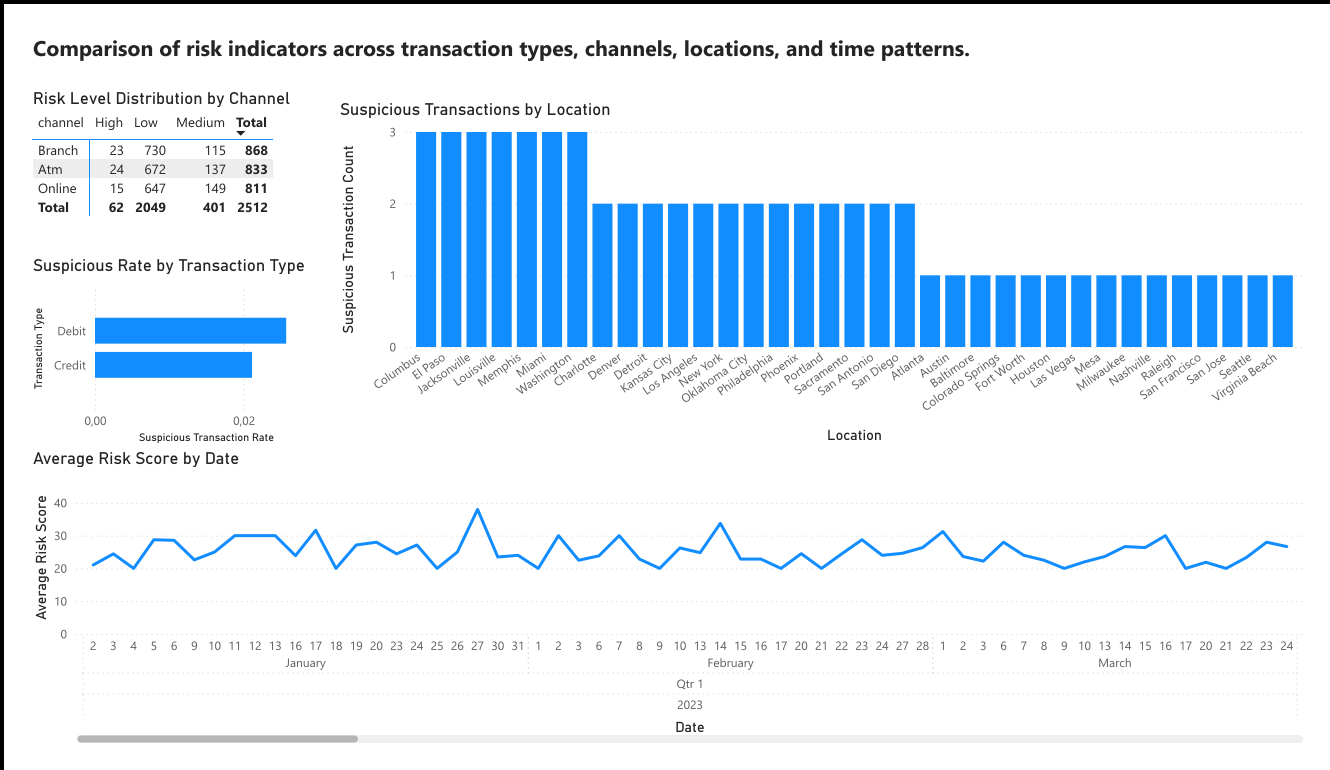

Layout of this report page (visuals, bound fields, positions):
{"tool":"powerbi","page":{"name":"Risk Drivers","canvas":[1280,720],"ordinal":1},"visuals":[{"type":"lineChart","title":"Average Risk Score by Date","fields":{"Category":["dim_date.date.Variation.Date Hierarchy.Year","dim_date.date.Variation.Date Hierarchy.Quarter","dim_date.date.Variation.Date Hierarchy.Month","dim_date.date.Variation.Date Hierarchy.Day"],"Y":["Avg(fact_transactions.risk_score)"]},"box":[0,420,1280,300],"z":0},{"type":"clusteredColumnChart","title":"Suspicious Transactions by Location","fields":{"Category":["dim_location.location"],"Y":["fact_transactions.Suspicious Transaction Count"]},"box":[307.4,48.1,554.1,348.2],"z":1000},{"type":"pivotTable","title":"Risk Level Distribution by Channel","fields":{"Rows":["dim_channel.channel"],"Columns":["fact_transactions.risk_level"],"Values":["Sum(fact_transactions.transaction_count)"]},"box":[0,60,282.9,157.1],"z":2000},{"type":"clusteredBarChart","title":"Suspicious Rate by Transaction Type","fields":{"Category":["dim_transaction_type.transaction_type"],"Y":["fact_transactions.Suspicious Transaction Rate"]},"box":[0,227.1,307.1,192.9],"z":3000},{"type":"textbox","box":[0,0,1121.4,44.3],"z":4000},{"type":"map","title":"Suspicious Transaction Heat Map","fields":{"Category":["dim_location.location"],"Size":["fact_transactions.Suspicious Transaction Count"]},"box":[861.5,44.4,418,340.1],"z":4001}]}

Visuals, with their boxes in screenshot pixels (x1, y1, x2, y2), scaled from the page's 1280x720 canvas onto the 1330x770 screenshot:
"Average Risk Score by Date" lineChart: [0,449,1329,769]
"Suspicious Transactions by Location" clusteredColumnChart: [319,51,895,424]
"Risk Level Distribution by Channel" pivotTable: [0,64,294,232]
"Suspicious Rate by Transaction Type" clusteredBarChart: [0,243,319,449]
textbox: [0,0,1165,47]
"Suspicious Transaction Heat Map" map: [895,47,1329,411]
